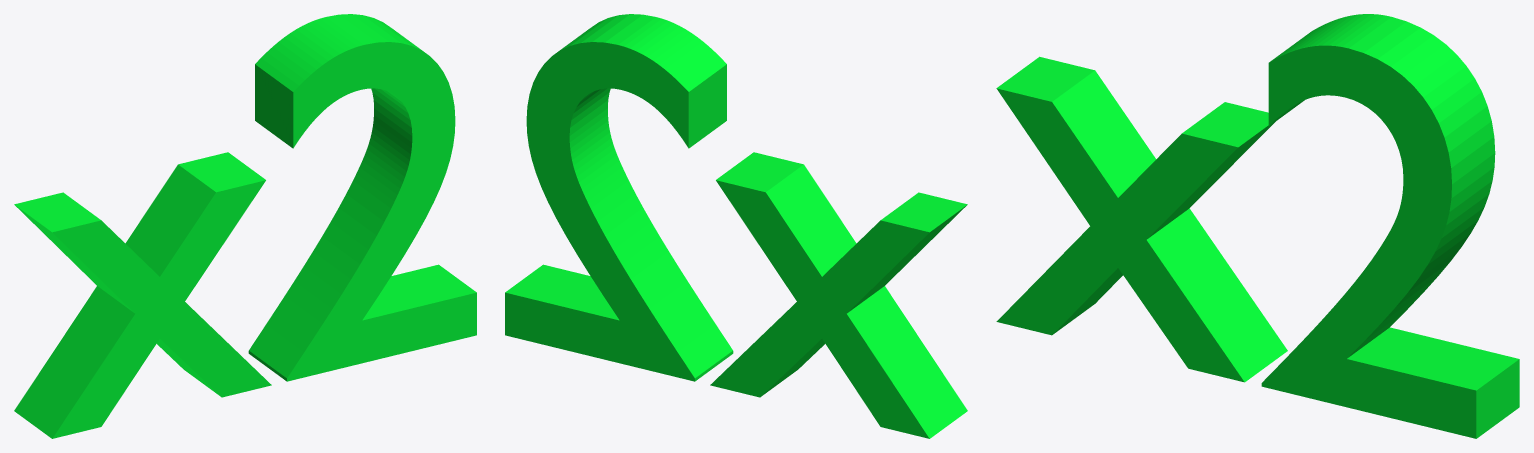
The model's file is Score Multiplier par deux.fbx.
3 views of the same model, side by side, from view 1: azimuth 30°, elevation 25°; view 2: azimuth 150°, elevation 25°; view 3: azimuth 330°, elevation 25° (orthographic). The views are drawn at different scales.
Visible parts, largest first — view 1: x2; view 2: x2; view 3: x2.
Boxes of the visible parts, x1,y1,x2,y2 form: x2: (14, 14, 476, 438); x2: (505, 14, 967, 438); x2: (996, 14, 1519, 438).
Size of the model in its own units: 24.13 by 3.76 by 17.26.
